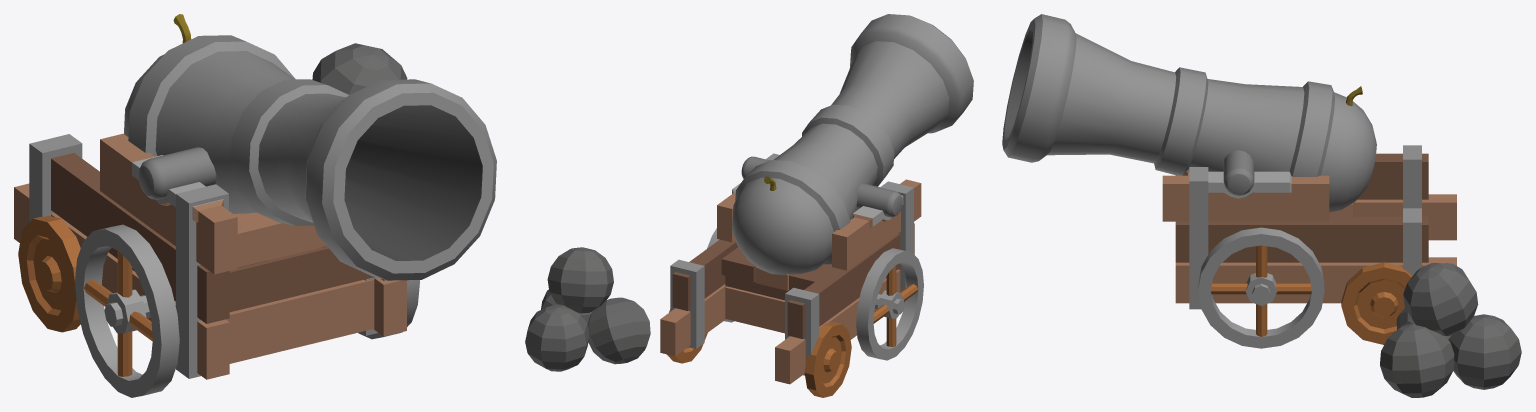
Rendered from Canon.fbx.
3 views of the same model, side by side, from view 1: azimuth 30°, elevation 25°; view 2: azimuth 150°, elevation 25°; view 3: azimuth 270°, elevation 25° (orthographic). The views are drawn at different scales.
Visible parts, largest first — view 1: pCylinder1, pCylinder3, pCube7, pCube19, pCube10, pCylinder14, pCube8, pCube16, pCube9, pSphere4, pCube12, pCylinder2 (+6 smaller); view 2: pCylinder1, pCylinder3, pSphere4, pSphere1, pSphere2, pCube10, pCube19, pCylinder14, pCube4, pCube9, pCube13, pCube5 (+11 smaller); view 3: pCylinder1, pCube5, pCube6, pCylinder12, pCube4, pSphere3, pSphere4, pCylinder8, pSphere1, pCube15, pCube9, pCube10 (+6 smaller).
Boxes of the visible parts, bbox=[...] form: pCylinder1: bbox=[124, 35, 496, 280]; pCylinder3: bbox=[75, 224, 179, 397]; pCube7: bbox=[226, 279, 374, 363]; pCube19: bbox=[100, 133, 237, 274]; pCube10: bbox=[51, 153, 229, 323]; pCylinder14: bbox=[18, 215, 80, 332]; pCube8: bbox=[229, 246, 373, 312]; pCube16: bbox=[176, 184, 228, 378]; pCube9: bbox=[14, 183, 229, 379]; pSphere4: bbox=[312, 43, 407, 94]; pCube12: bbox=[237, 215, 326, 267]; pCylinder2: bbox=[138, 147, 216, 199]; pCylinder1: bbox=[732, 14, 973, 274]; pCylinder3: bbox=[856, 248, 923, 360]; pSphere4: bbox=[547, 247, 613, 313]; pSphere1: bbox=[525, 305, 589, 371]; pSphere2: bbox=[587, 297, 650, 364]; pCube10: bbox=[787, 223, 914, 338]; pCube19: bbox=[832, 179, 921, 270]; pCylinder14: bbox=[804, 322, 851, 397]; pCube4: bbox=[660, 284, 726, 356]; pCube9: bbox=[775, 269, 900, 384]; pCube13: bbox=[725, 286, 784, 333]; pCube5: bbox=[672, 239, 738, 310]; pCylinder1: bbox=[1002, 14, 1376, 212]; pCube5: bbox=[1175, 216, 1428, 262]; pCube6: bbox=[1162, 171, 1329, 221]; pCylinder12: bbox=[1198, 227, 1324, 348]; pCube4: bbox=[1175, 257, 1456, 303]; pSphere3: bbox=[1380, 323, 1454, 397]; pSphere4: bbox=[1403, 263, 1478, 335]; pCylinder8: bbox=[1341, 262, 1412, 344]; pSphere1: bbox=[1448, 314, 1521, 389]; pCube15: bbox=[1189, 167, 1208, 309]; pCube9: bbox=[1353, 194, 1456, 240]; pCube10: bbox=[1176, 153, 1428, 199].
Bounding box in the file's own units: 5.94 × 4.94 × 8.22.
